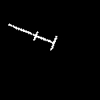double_crochet: (9, 24, 56, 49)
